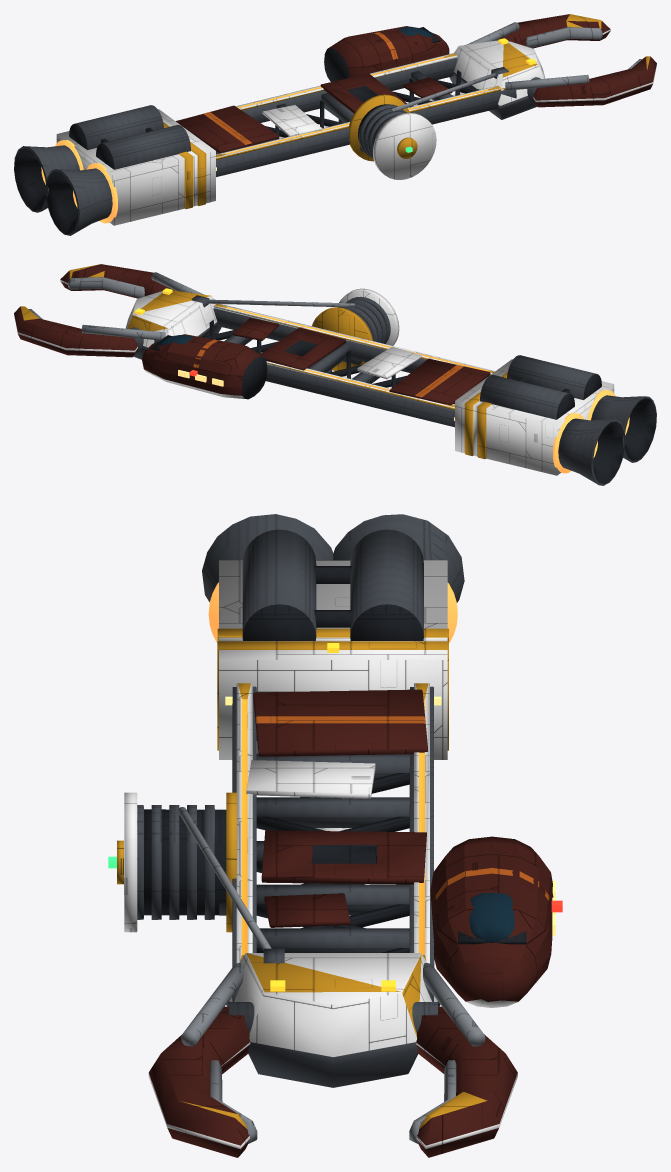
The model's file is ashline_rig_lod2.glb.
3 renders of one model, top to bottom at view 1: azimuth 30°, elevation 25°; view 2: azimuth 150°, elevation 25°; view 3: azimuth 270°, elevation 25°, orthographic. The views are drawn at different scales.
Visible parts, largest first — view 1: LOD0_MOTION_HULL_CORE_Mechanical, LOD0_MOTION_HULL_CORE_Armor, LOD0_MOTION_HULL_CORE_Hull, LOD0_MOTION_HULL_CORE_MechanicalDark, LOD0_MOTION_HULL_CORE_Warning, LOD0_MOTION_HULL_CORE_BrushedMetal, LOD0_MOTION_HULL_CORE_Lights_Cyan_sodium, LOD0_MOTION_HULL_CORE_HOOK_DRIVE_CORE, LOD0_MOTION_HULL_CORE_Livery; view 2: LOD0_MOTION_HULL_CORE_Mechanical, LOD0_MOTION_HULL_CORE_Hull, LOD0_MOTION_HULL_CORE_Armor, LOD0_MOTION_HULL_CORE_MechanicalDark, LOD0_MOTION_HULL_CORE_Warning, LOD0_MOTION_HULL_CORE_BrushedMetal, LOD0_MOTION_HULL_CORE_HOOK_DRIVE_CORE, LOD0_MOTION_HULL_CORE_Lights_Cyan_sodium, LOD0_MOTION_HULL_CORE_Livery; view 3: LOD0_MOTION_HULL_CORE_Hull, LOD0_MOTION_HULL_CORE_Mechanical, LOD0_MOTION_HULL_CORE_Armor, LOD0_MOTION_HULL_CORE_MechanicalDark, LOD0_MOTION_HULL_CORE_Warning, LOD0_MOTION_HULL_CORE_BrushedMetal, LOD0_MOTION_HULL_CORE_Lights_Cyan_sodium, LOD0_MOTION_HULL_CORE_Livery, LOD0_MOTION_HULL_CORE_CANOPY, LOD0_MOTION_HULL_CORE_HOOK_DRIVE_CORE.
Part boxes in pixels (left/top/right/bottom): LOD0_MOTION_HULL_CORE_Mechanical: left=14, top=58, right=540, bottom=235; LOD0_MOTION_HULL_CORE_Armor: left=56, top=29, right=656, bottom=225; LOD0_MOTION_HULL_CORE_Hull: left=176, top=14, right=656, bottom=153; LOD0_MOTION_HULL_CORE_MechanicalDark: left=14, top=27, right=480, bottom=233; LOD0_MOTION_HULL_CORE_Warning: left=163, top=14, right=650, bottom=209; LOD0_MOTION_HULL_CORE_BrushedMetal: left=390, top=22, right=641, bottom=111; LOD0_MOTION_HULL_CORE_Lights_Cyan_sodium: left=225, top=57, right=488, bottom=154; LOD0_MOTION_HULL_CORE_HOOK_DRIVE_CORE: left=41, top=140, right=117, bottom=223; LOD0_MOTION_HULL_CORE_Livery: left=203, top=32, right=397, bottom=144; LOD0_MOTION_HULL_CORE_Mechanical: left=130, top=295, right=656, bottom=485; LOD0_MOTION_HULL_CORE_Hull: left=14, top=264, right=490, bottom=405; LOD0_MOTION_HULL_CORE_Armor: left=14, top=279, right=614, bottom=475; LOD0_MOTION_HULL_CORE_MechanicalDark: left=150, top=302, right=656, bottom=483; LOD0_MOTION_HULL_CORE_Warning: left=20, top=264, right=507, bottom=459; LOD0_MOTION_HULL_CORE_BrushedMetal: left=28, top=272, right=354, bottom=340; LOD0_MOTION_HULL_CORE_HOOK_DRIVE_CORE: left=553, top=390, right=629, bottom=473; LOD0_MOTION_HULL_CORE_Lights_Cyan_sodium: left=227, top=307, right=489, bottom=404; LOD0_MOTION_HULL_CORE_Livery: left=193, top=339, right=463, bottom=397; LOD0_MOTION_HULL_CORE_Hull: left=149, top=689, right=553, bottom=1157; LOD0_MOTION_HULL_CORE_Mechanical: left=137, top=514, right=464, bottom=1087; LOD0_MOTION_HULL_CORE_Armor: left=124, top=560, right=518, bottom=1149; LOD0_MOTION_HULL_CORE_MechanicalDark: left=144, top=566, right=526, bottom=952; LOD0_MOTION_HULL_CORE_Warning: left=117, top=628, right=487, bottom=1129; LOD0_MOTION_HULL_CORE_BrushedMetal: left=178, top=807, right=485, bottom=1143; LOD0_MOTION_HULL_CORE_Lights_Cyan_sodium: left=241, top=699, right=424, bottom=954; LOD0_MOTION_HULL_CORE_Livery: left=255, top=716, right=549, bottom=900; LOD0_MOTION_HULL_CORE_CANOPY: left=469, top=893, right=514, bottom=942; LOD0_MOTION_HULL_CORE_HOOK_DRIVE_CORE: left=208, top=582, right=457, bottom=643.
Size of what is drawn, in the model's own units: 18.36 by 2.27 by 6.15.
Materials: 14 (7 with a texture image).
